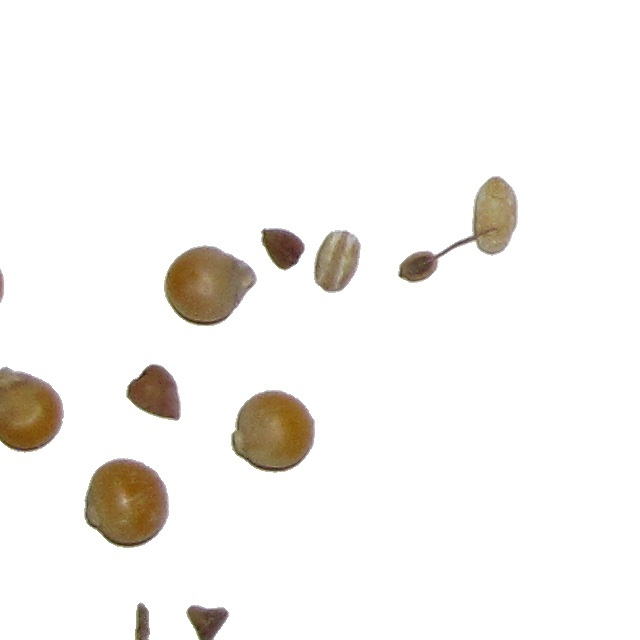buckwheat: (125, 363, 182, 422), (260, 227, 306, 272), (185, 604, 230, 640), (134, 601, 154, 640)
mais: (83, 457, 170, 549), (163, 244, 258, 327), (230, 389, 316, 474)
other: (469, 175, 519, 263), (312, 229, 362, 294)
